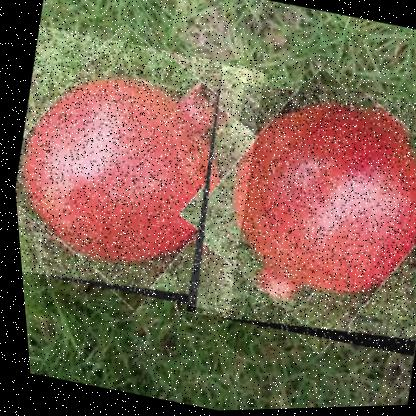pomegranate: (2, 21, 279, 321), (163, 61, 415, 366)
